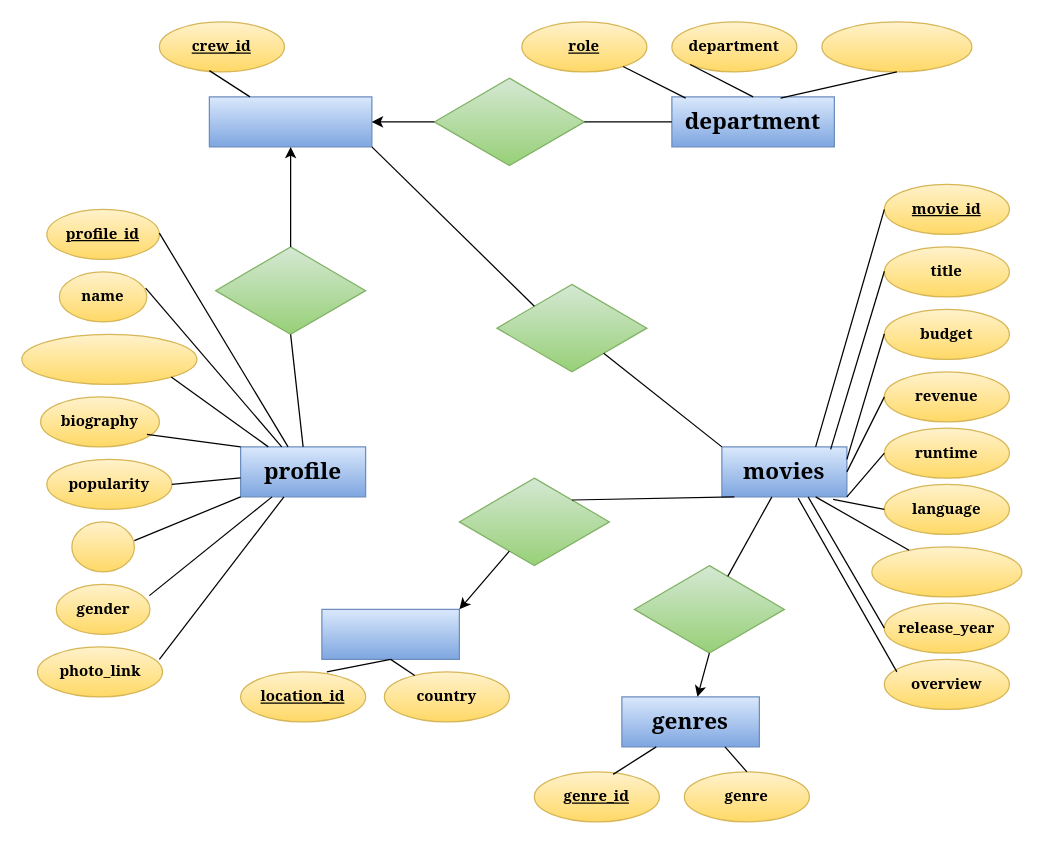
Some shapes in this 1044 by 844 pixel diagram are drawn without their labels. Here are the shapes that lost their labels. From the top down, the centre of each, then its label:
(896,46): job_description
(290,121): movie_crew
(508,121): worked_as
(290,290): did
(571,327): made
(109,358): main_department
(533,521): filmed in
(102,546): age
(946,571): poster_link
(708,608): is of genre
(390,633): locations
